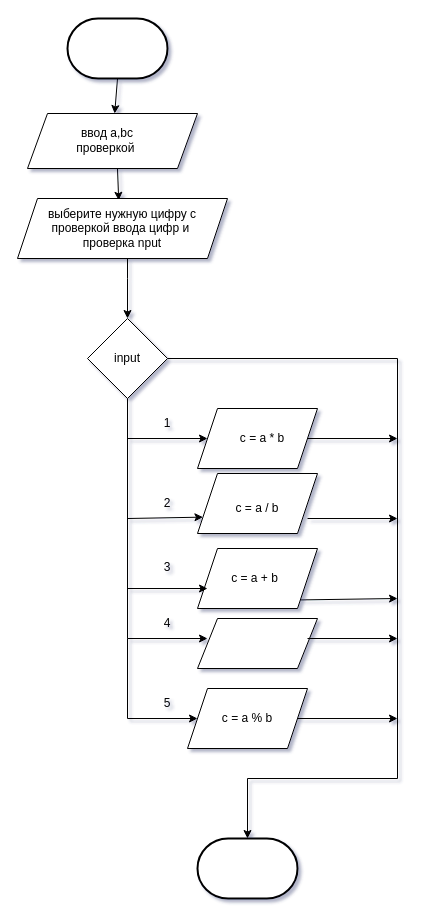
Some shapes in this 429 by 922 pixel diagram are drawn without their labels. Each missing label, with the centre of its shape:
"c = a - b" belongs at pixel 257 643.
"конец" belongs at pixel 247 868.
"начало" belongs at pixel 117 48.
